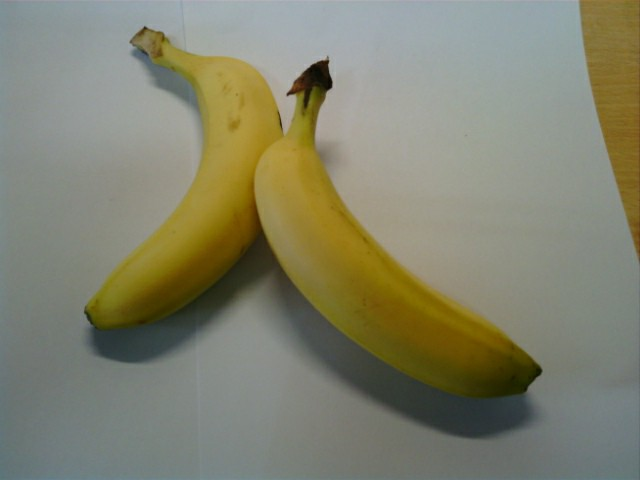fresh_banana: (254, 118, 536, 402), (86, 51, 285, 336)
